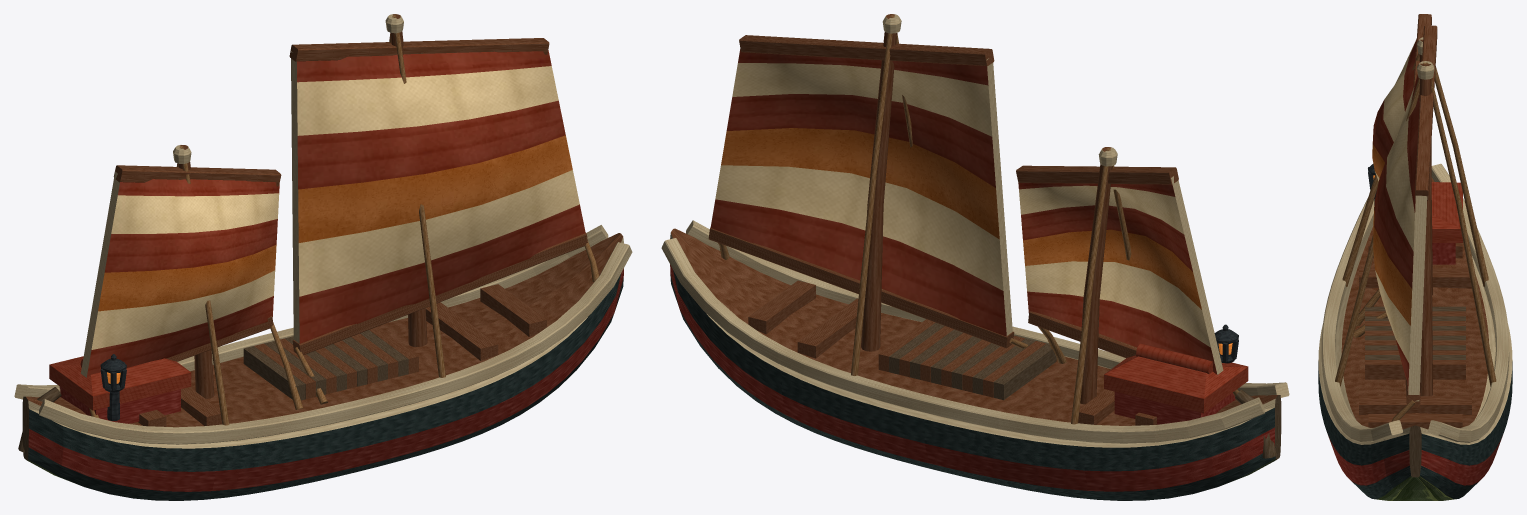
The model's file is venice_bragozzo_boat_mid.glb.
3 renders of one model, left to right at view 1: azimuth 30°, elevation 25°; view 2: azimuth 150°, elevation 25°; view 3: azimuth 270°, elevation 25°, orthographic. The views are drawn at different scales.
Parts seen in each view (by area): view 1: venice_bragozzo_boat_mid; view 2: venice_bragozzo_boat_mid; view 3: venice_bragozzo_boat_mid.
Boxes of the visible parts, x1,y1,x2,y2 form: venice_bragozzo_boat_mid: [14, 14, 632, 500]; venice_bragozzo_boat_mid: [661, 14, 1289, 500]; venice_bragozzo_boat_mid: [1318, 14, 1512, 500].
Size of the model in its own units: 11 by 7.2 by 3.2.
Materials: 2 (2 with a texture image).
